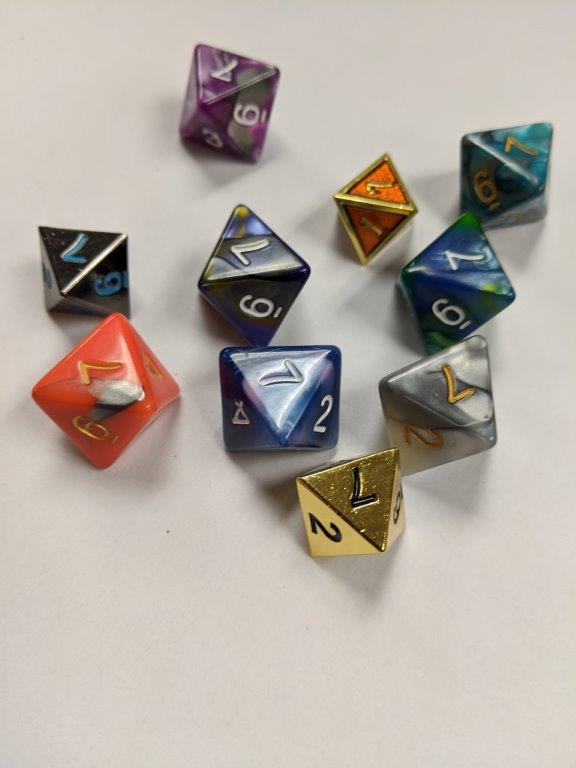d8-7: (33, 313, 179, 472), (394, 212, 516, 361), (381, 336, 502, 479), (199, 203, 311, 344), (170, 40, 281, 163), (295, 449, 411, 564), (219, 345, 338, 448), (458, 118, 551, 231), (38, 223, 135, 322), (341, 154, 416, 265)
